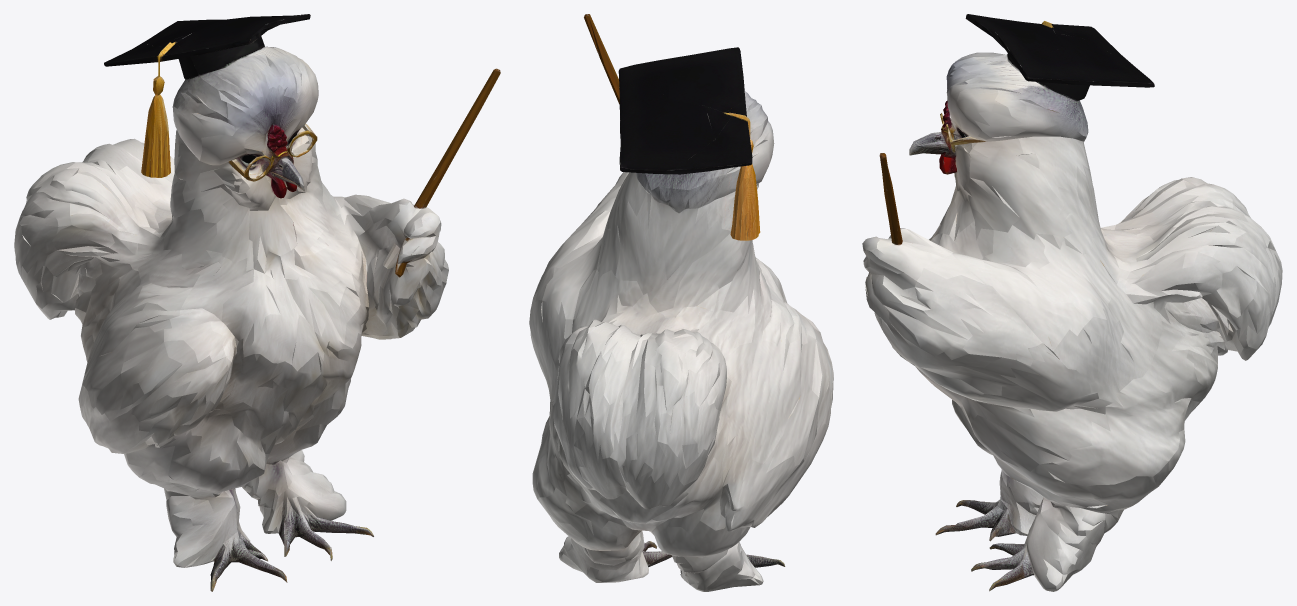
File: kkoko_doctor.glb
The picture shows the model from 3 angles, left to right: view 1: azimuth 30°, elevation 25°; view 2: azimuth 150°, elevation 25°; view 3: azimuth 270°, elevation 25°; orthographic projection. The views are drawn at different scales.
Size of the model in its own units: 1.16 by 1.89 by 1.39.
1 material, 1 textured.
